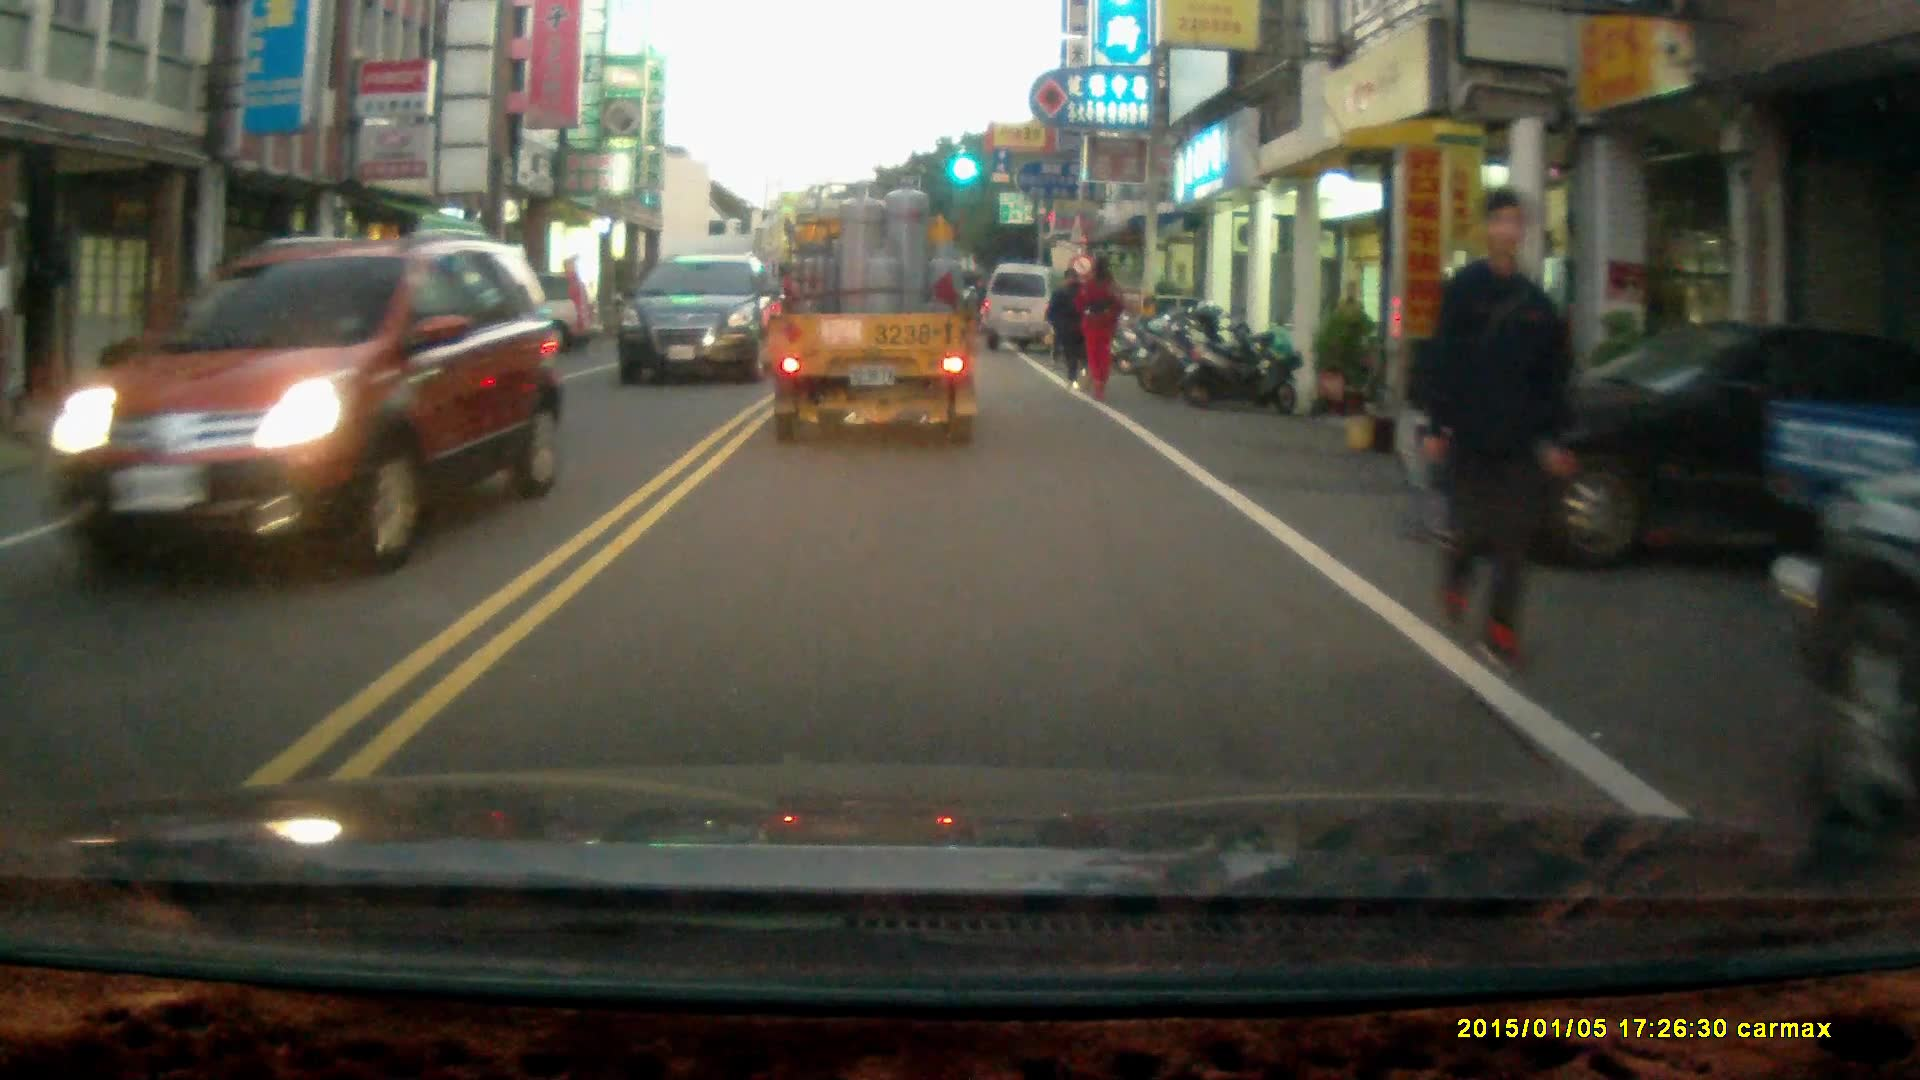pedestrian: (1414, 180, 1574, 674), (1078, 256, 1118, 397), (1054, 268, 1092, 391), (1330, 279, 1363, 368)
vehicle: (79, 228, 541, 596), (1395, 312, 1920, 579), (766, 192, 986, 474), (616, 254, 781, 389), (985, 261, 1068, 352)
